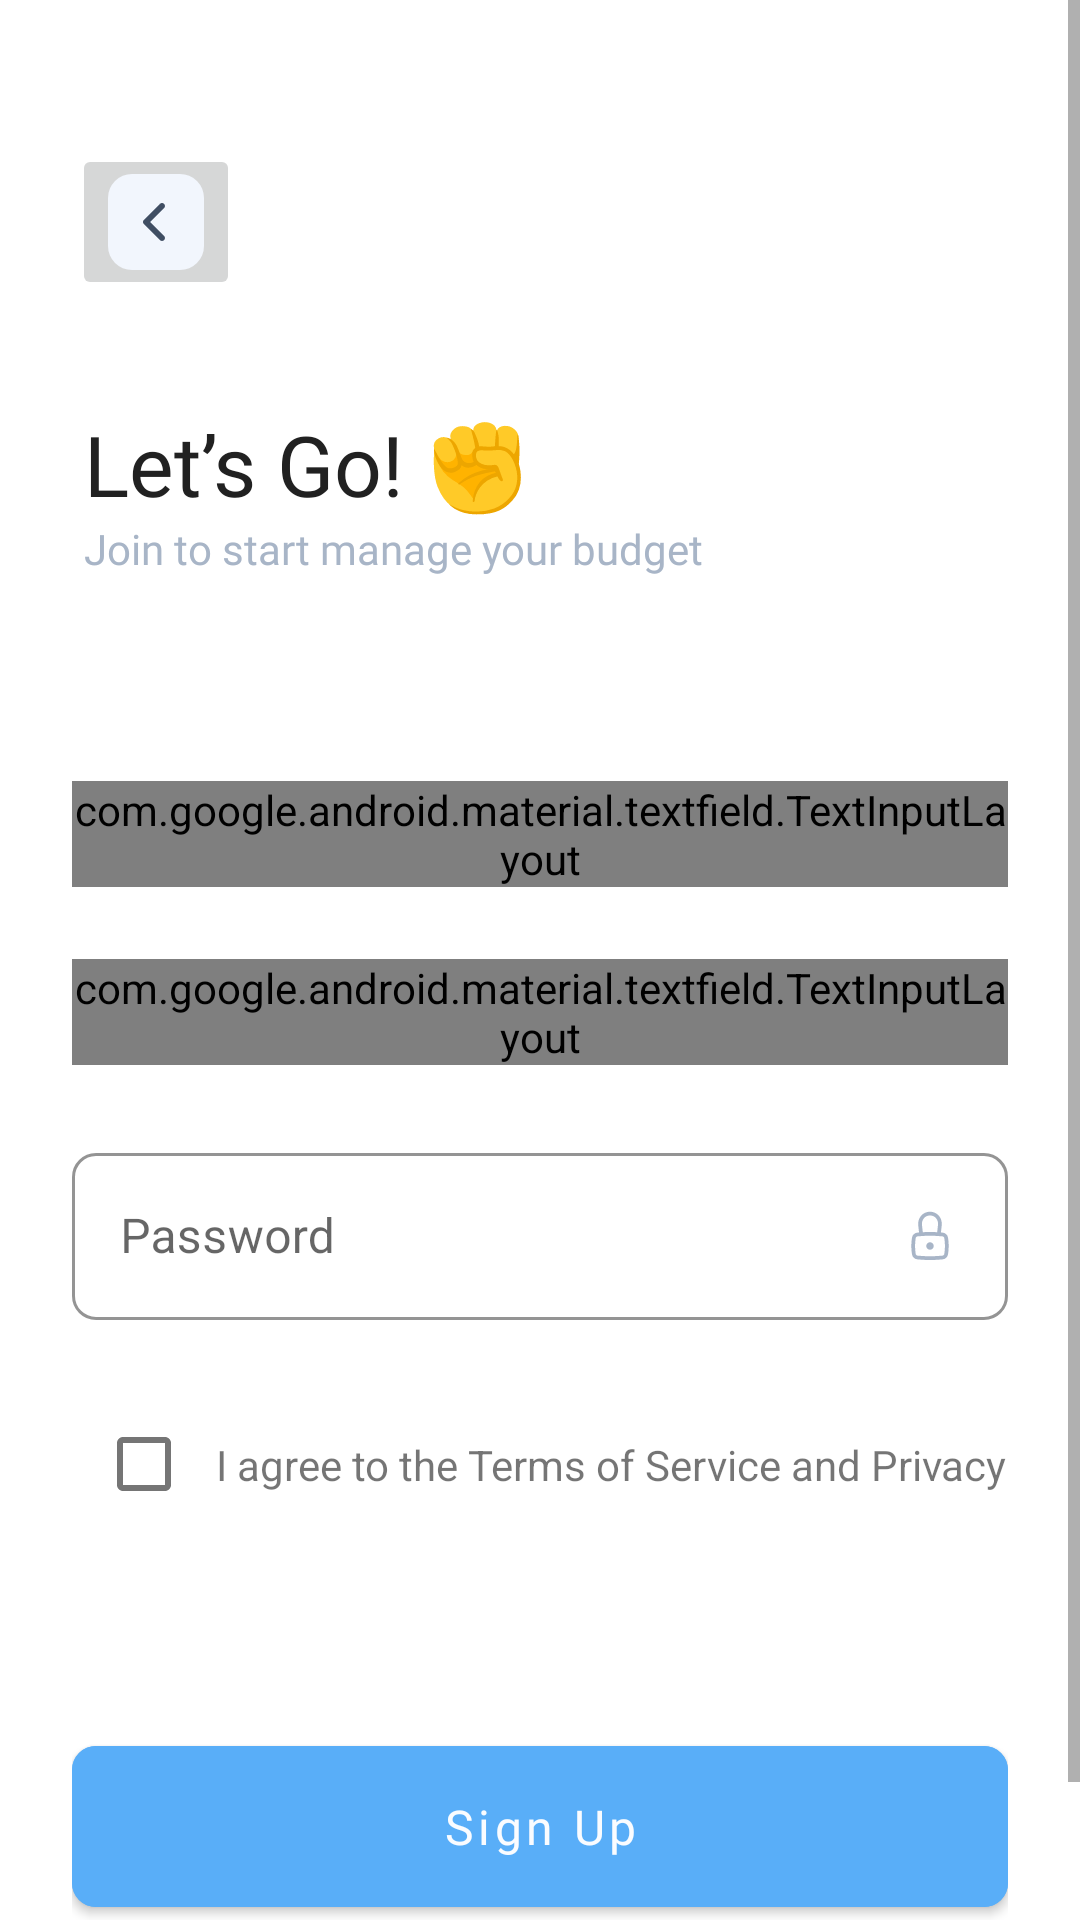

Named icons in this screenshot (1080w x 1920h) and their bounding boxes, (x1, y1, x2, y2):
back: (84, 162, 228, 282)
